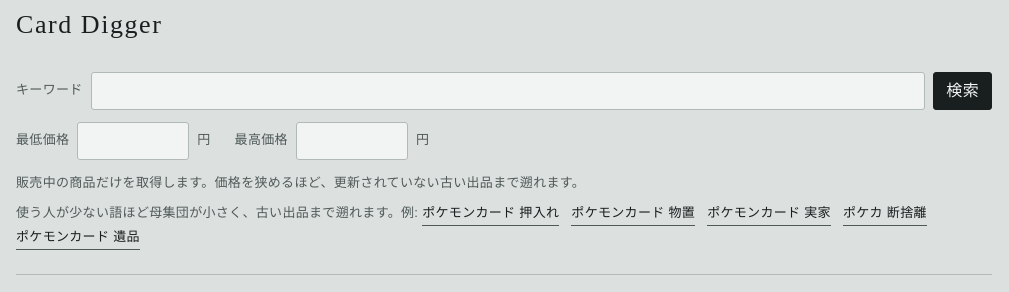
Test: initial state › fills the keyword from an example without searching
Click the button "ポケカ 断捨離" at (885, 214), box [843,202,927,226]
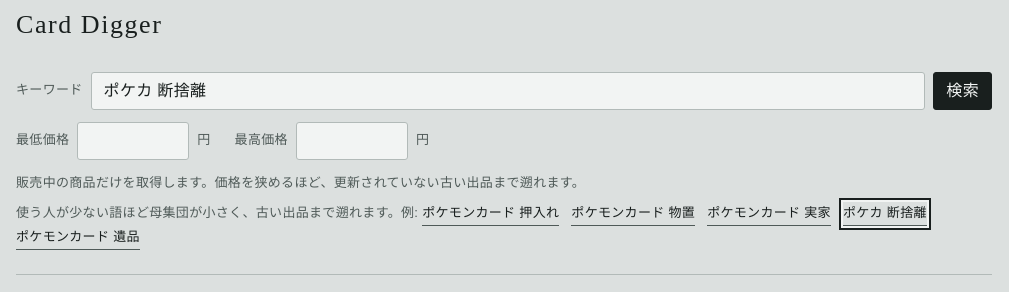
expect the field labelled "キーワード" holds "ポケカ 断捨離": met, box [91,72,925,110]
